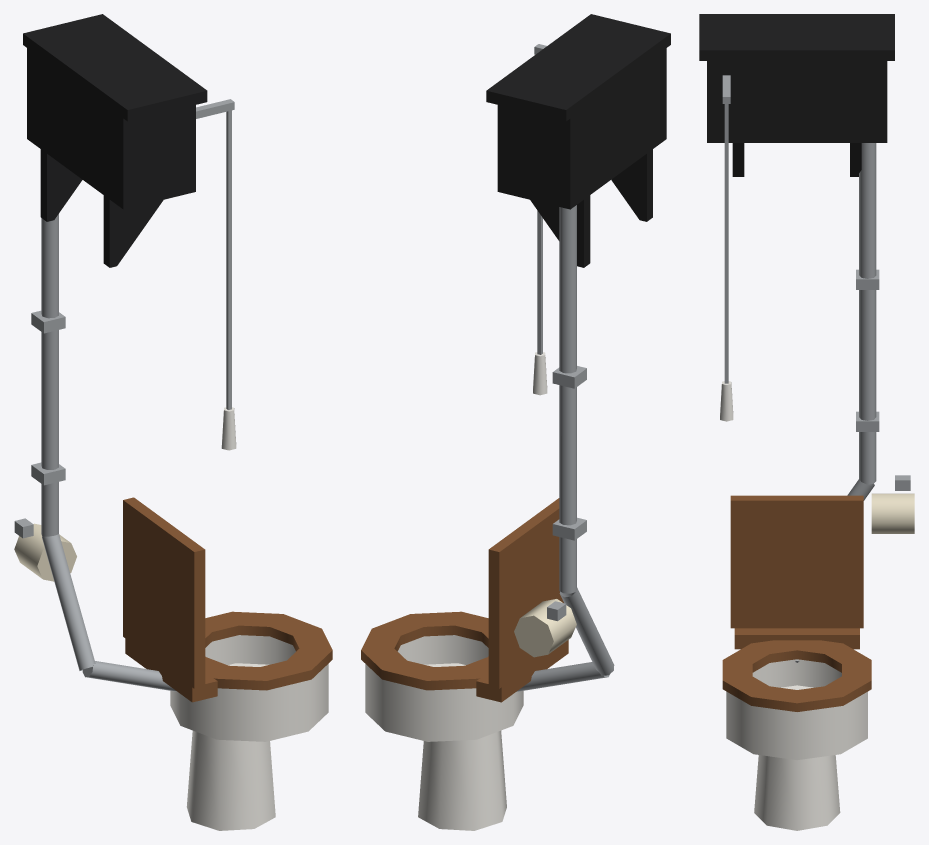
The model's file is parametric-wc-service.glb.
3 renders of one model, left to right at view 1: azimuth 30°, elevation 25°; view 2: azimuth 150°, elevation 25°; view 3: azimuth 270°, elevation 25°, orthographic. The views are drawn at different scales.
Parts seen in each view (by area): view 1: parametric-wc-service; view 2: parametric-wc-service; view 3: parametric-wc-service.
Boxes of the visible parts, box(x1,y1,x2,y2) form: parametric-wc-service: box(14, 14, 332, 830); parametric-wc-service: box(361, 14, 670, 830); parametric-wc-service: box(699, 14, 914, 830).
Bounding box in the file's own units: 0.68 × 2.05 × 0.55.
